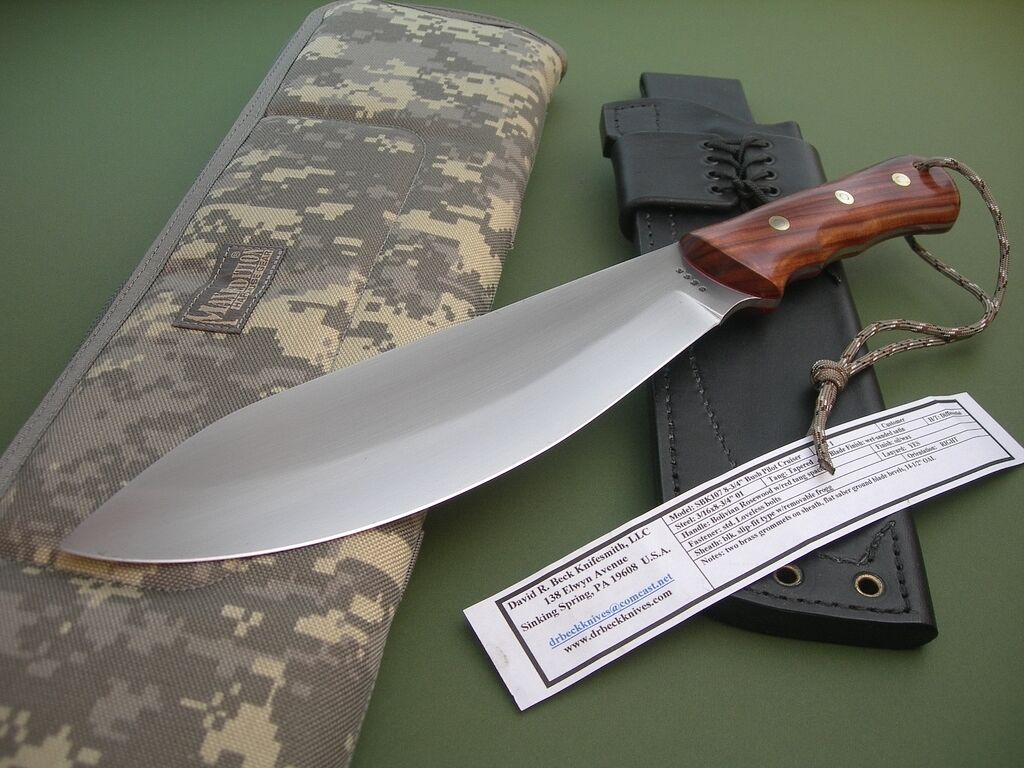knief: (69, 89, 982, 568)
